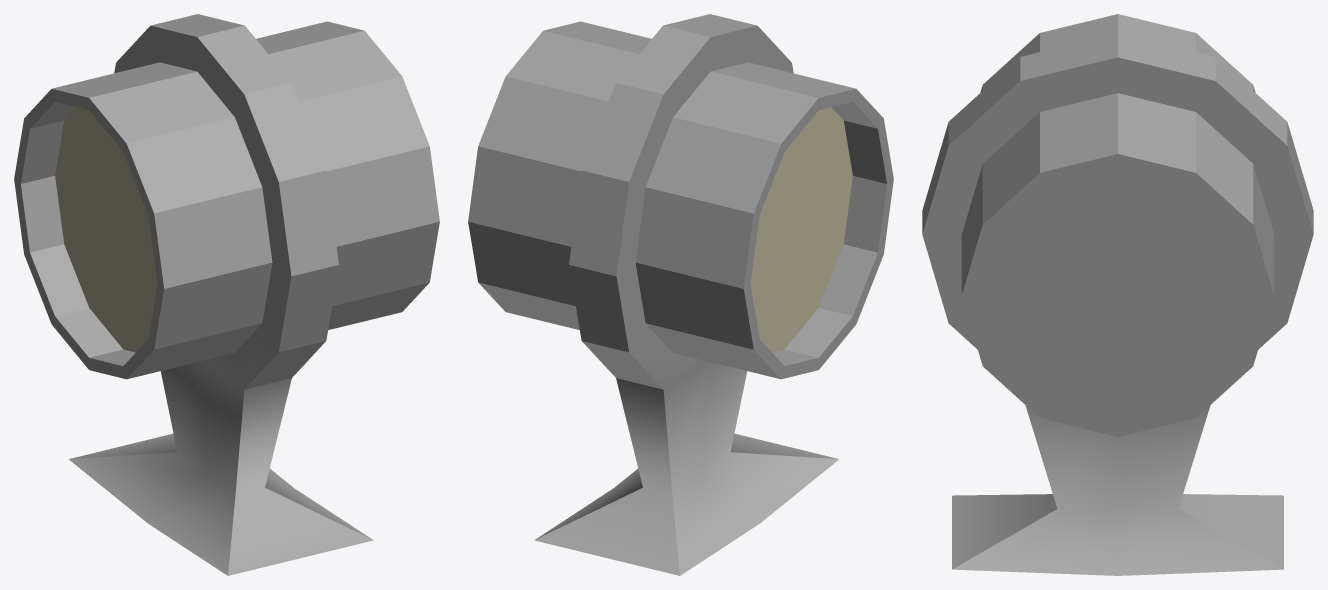
Rendered from SpotLight.fbx.
3 views of the same model, side by side, from view 1: azimuth 30°, elevation 25°; view 2: azimuth 150°, elevation 25°; view 3: azimuth 270°, elevation 25° (orthographic). The views are drawn at different scales.
Parts seen in each view (by area): view 1: pCylinder3; view 2: pCylinder3; view 3: pCylinder3.
Boxes of the visible parts, x1,y1,x2,y2 form: pCylinder3: (14, 14, 439, 575); pCylinder3: (468, 14, 893, 575); pCylinder3: (922, 14, 1313, 575).
Bounding box in the file's own units: 583 × 958 × 689.
